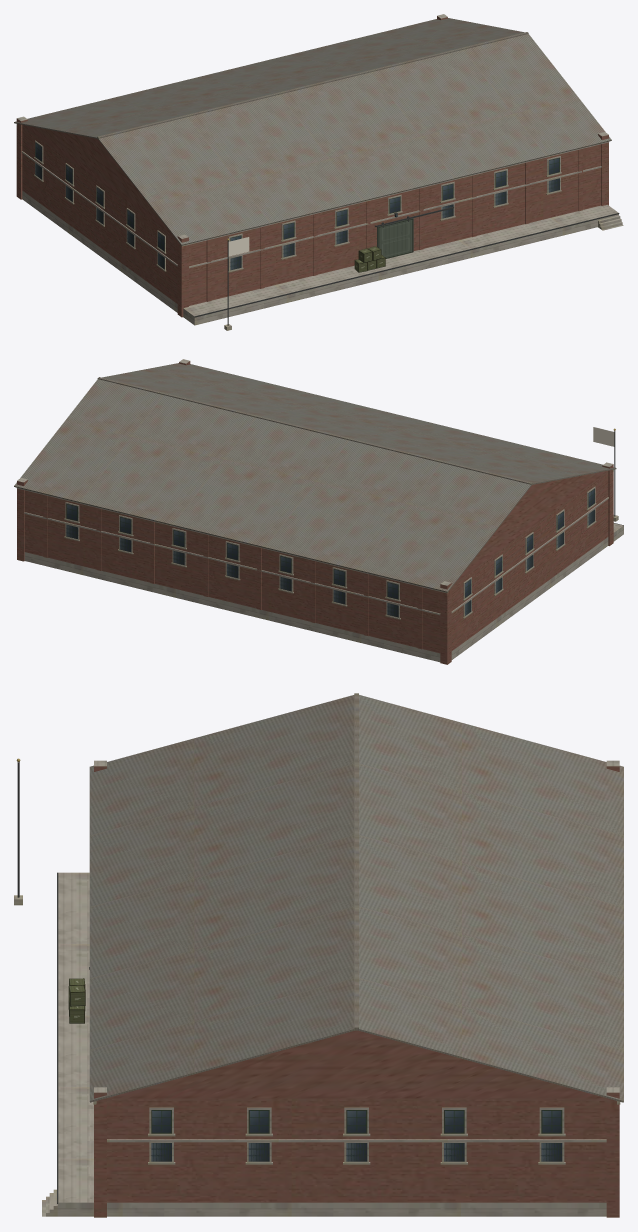
Rendered from warehouse.glb.
The picture shows the model from 3 angles, top to bottom: view 1: azimuth 30°, elevation 25°; view 2: azimuth 150°, elevation 25°; view 3: azimuth 270°, elevation 25°; orthographic projection. The views are drawn at different scales.
Visible parts, largest first — view 1: toit, murs, quai, porte; view 2: toit, murs; view 3: toit, murs, quai.
Boxes of the visible parts, x1,y1,x2,y2 form: toit: [14, 18, 611, 245]; murs: [16, 14, 608, 317]; quai: [183, 205, 623, 325]; porte: [377, 218, 413, 258]; toit: [14, 363, 616, 592]; murs: [17, 359, 613, 664]; toit: [89, 693, 623, 1102]; murs: [89, 760, 620, 1217]; quai: [42, 872, 93, 1216].
Size of the model in its own units: 60.8 by 16.23 by 46.89.
10 materials, 8 textured.
